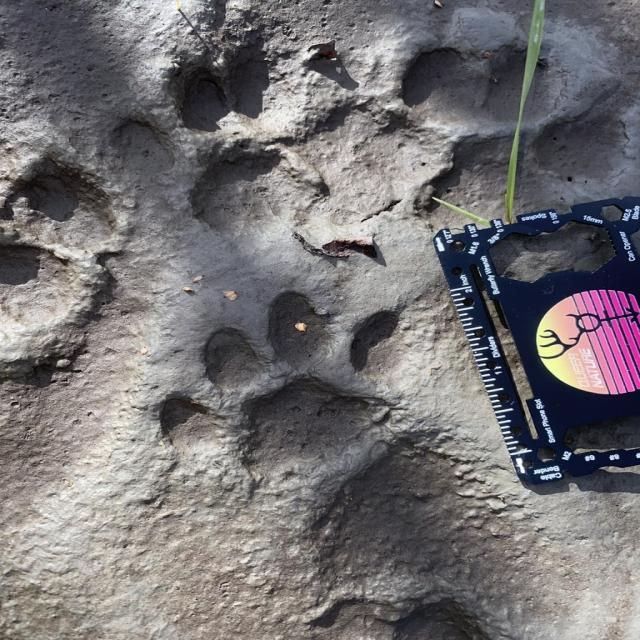felid: (117, 51, 368, 225), (162, 297, 400, 468)
